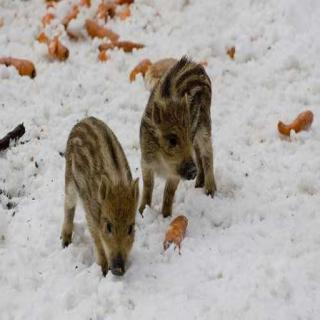Pig: (53, 114, 155, 282)
